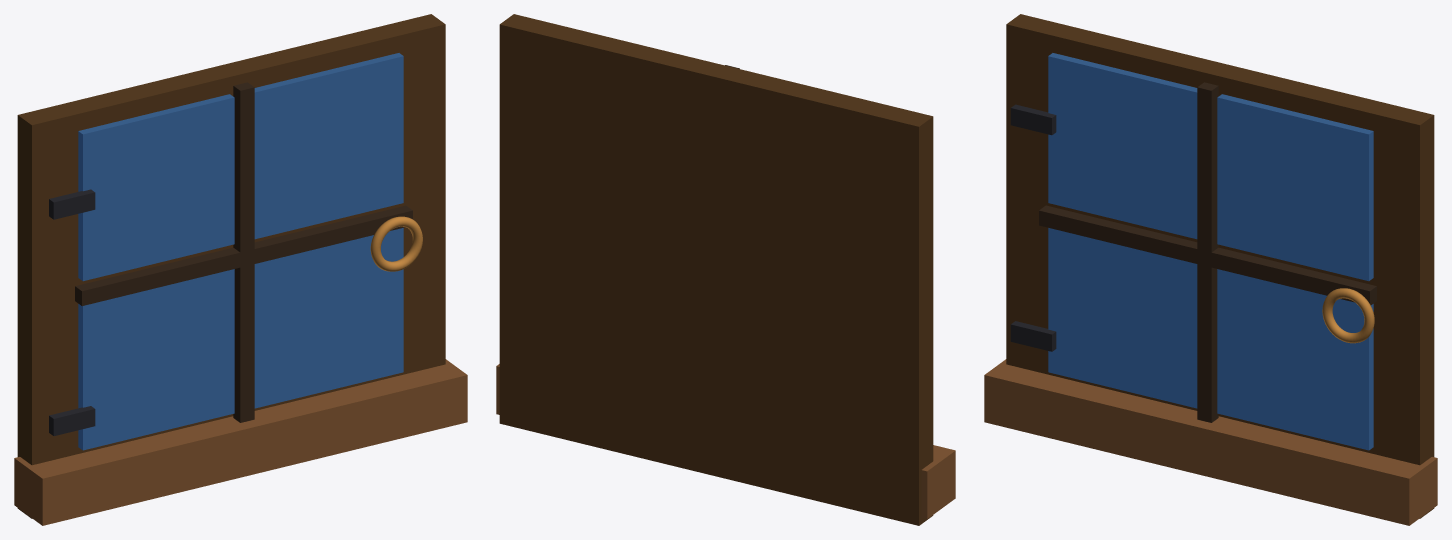
Rendered from mia-attic_window.glb.
3 renders of one model, left to right at view 1: azimuth 30°, elevation 25°; view 2: azimuth 150°, elevation 25°; view 3: azimuth 330°, elevation 25°, orthographic.
Parts seen in each view (by area): view 1: Body_night-glass, Body_wood, Body_oak, Body_grain, Body_iron, Body_brass; view 2: Body_wood, Body_oak; view 3: Body_night-glass, Body_wood, Body_oak, Body_grain, Body_iron, Body_brass.
Boxes of the visible parts, x1,y1,x2,y2 form: Body_night-glass: (78, 53, 403, 450); Body_wood: (17, 14, 445, 518); Body_oak: (14, 359, 467, 525); Body_grain: (75, 82, 412, 422); Body_iron: (49, 189, 95, 435); Body_brass: (370, 216, 422, 271); Body_wood: (499, 14, 933, 525); Body_oak: (496, 364, 955, 518); Body_night-glass: (1048, 53, 1373, 450); Body_wood: (1006, 14, 1434, 518); Body_oak: (984, 359, 1437, 525); Body_grain: (1039, 82, 1376, 422); Body_iron: (1010, 104, 1056, 351); Body_brass: (1322, 288, 1374, 343).
Size of the model in its own units: 1.13 by 1 by 0.1405.
